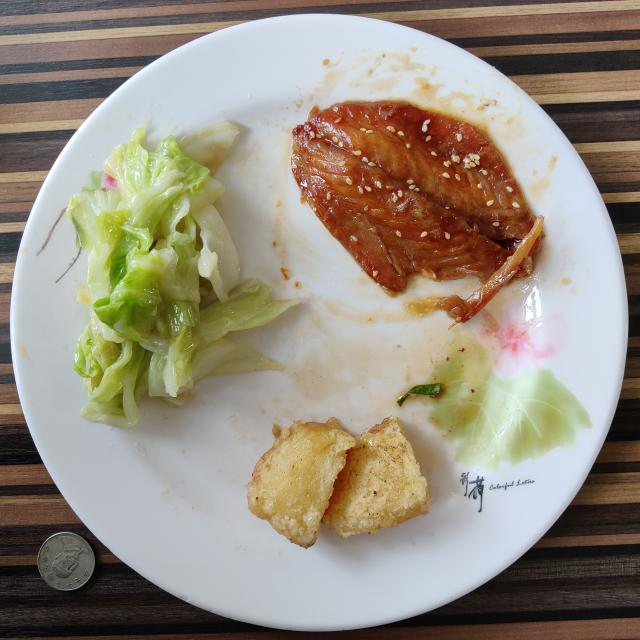Kabayaki sea bream fillet: (291, 101, 542, 322)
cabbage: (66, 121, 300, 428)
coin: (38, 532, 95, 590)
fried potato: (246, 416, 431, 549)
